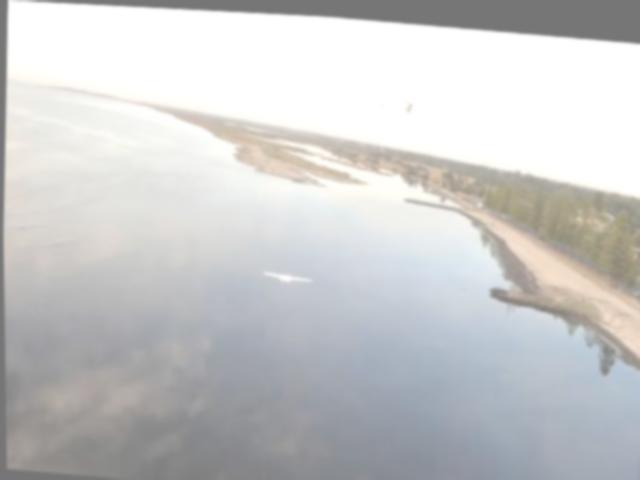uav: (377, 87, 442, 115), (261, 263, 314, 286)
